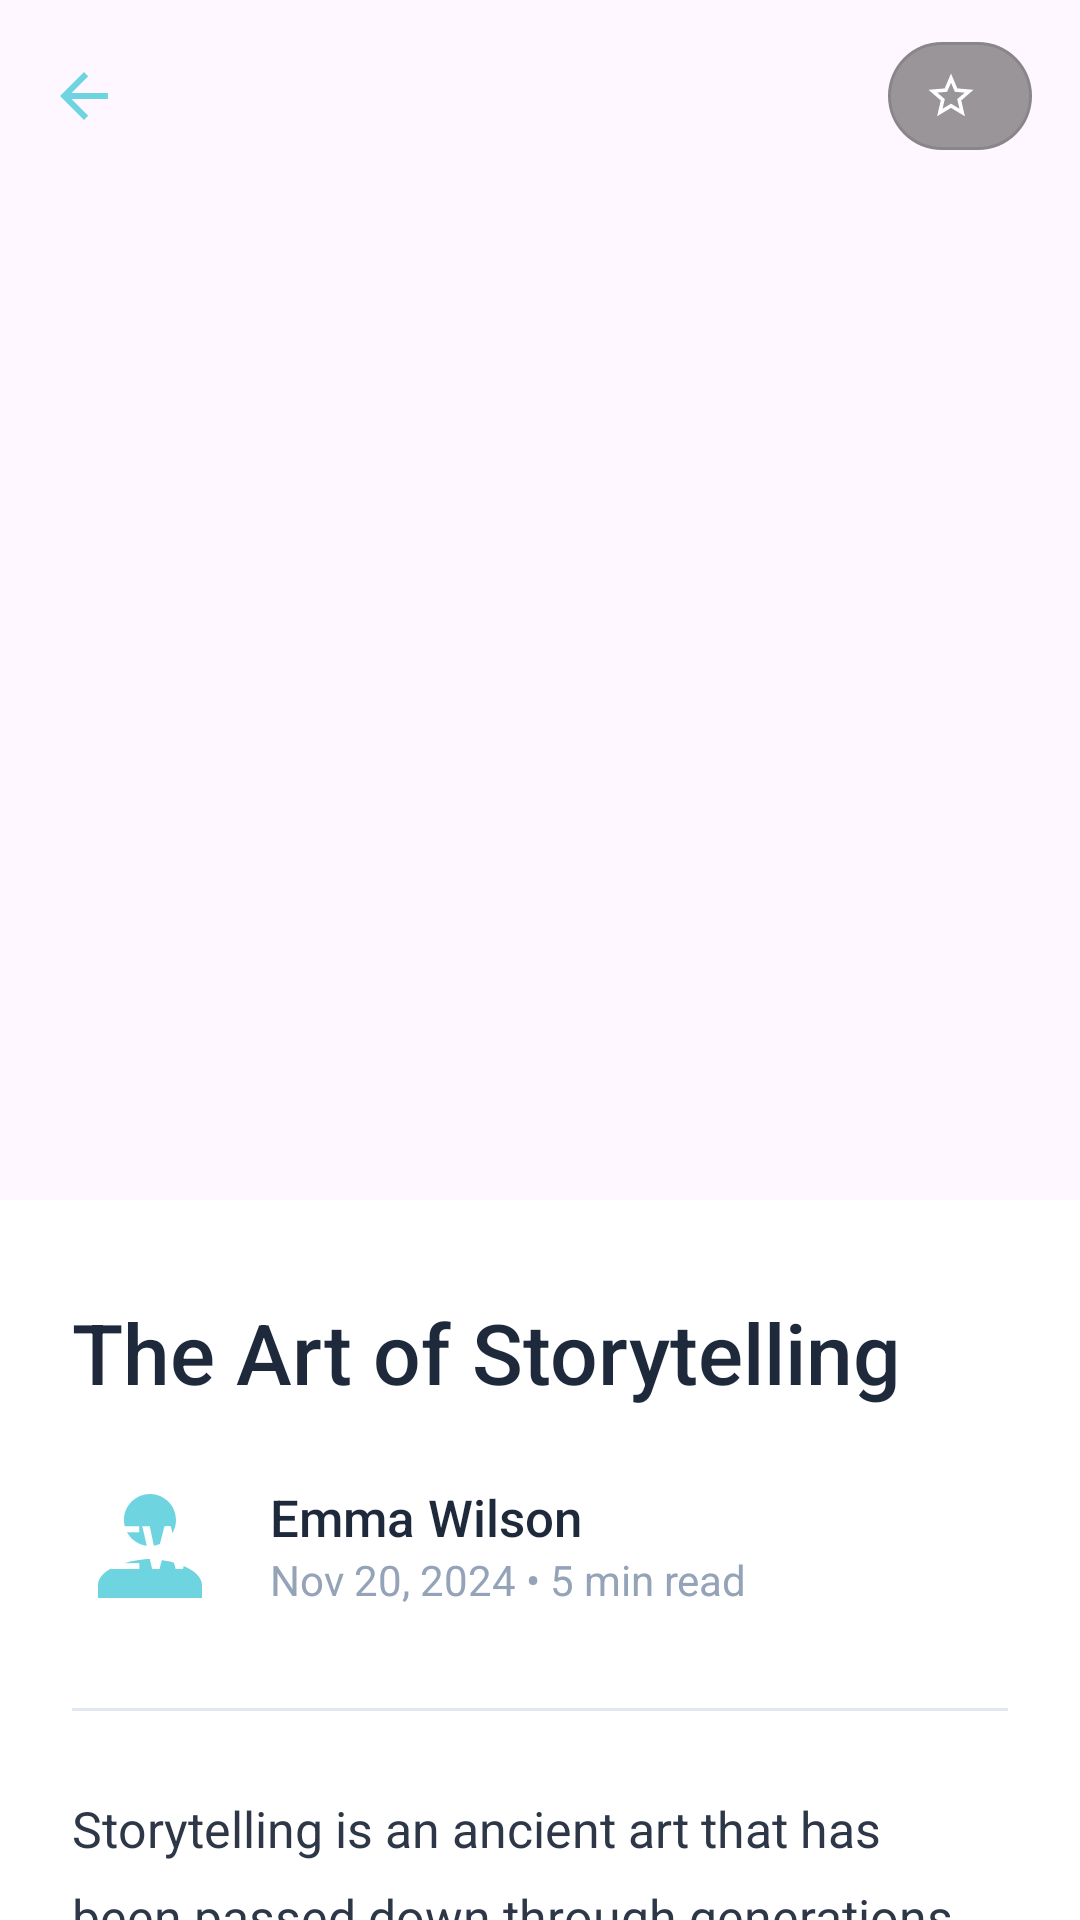

Where icons sit on this 1080w x 1920h app screen, as [left=x1, top=y1, right=x2, bottom=y2]:
person: [left=98, top=1494, right=202, bottom=1598]
